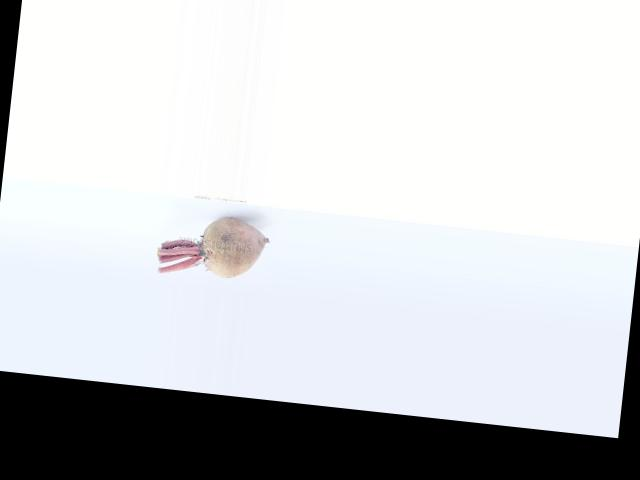beet: (156, 210, 269, 282)
